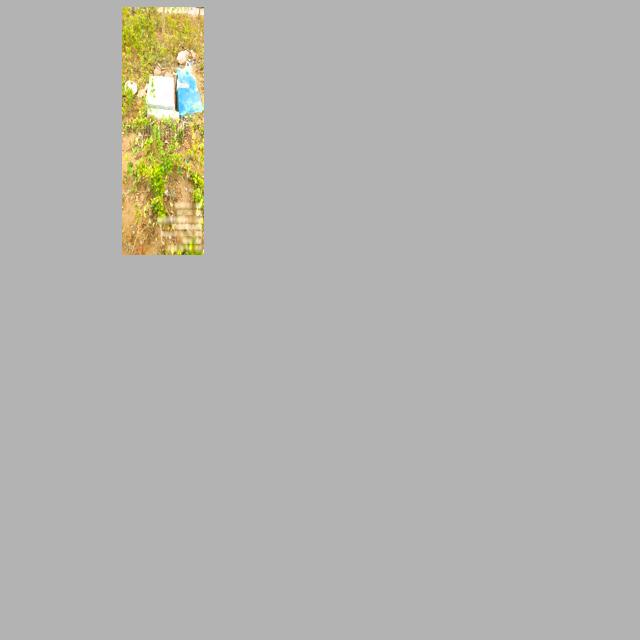circle: (144, 72, 180, 118)
